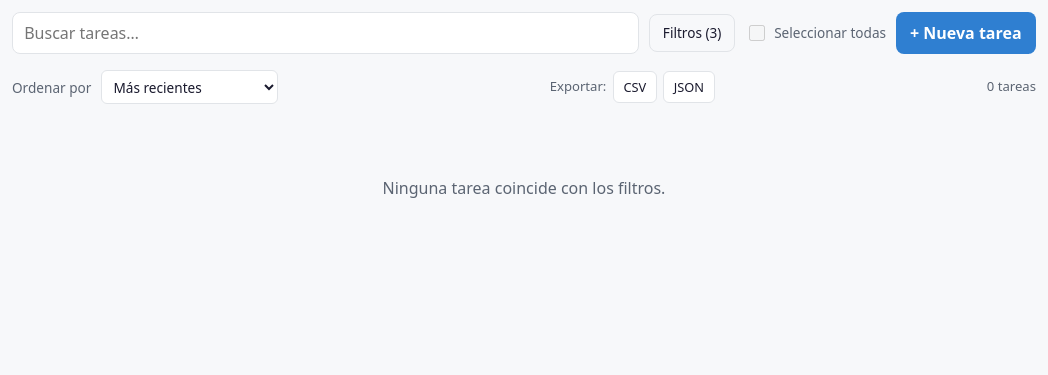
<TodoList /> › toggles the filter panel and shows the active count
The image size is (1048, 375).
Click the button "Filtros (3)" at (692, 33), box [649,14,735,52]
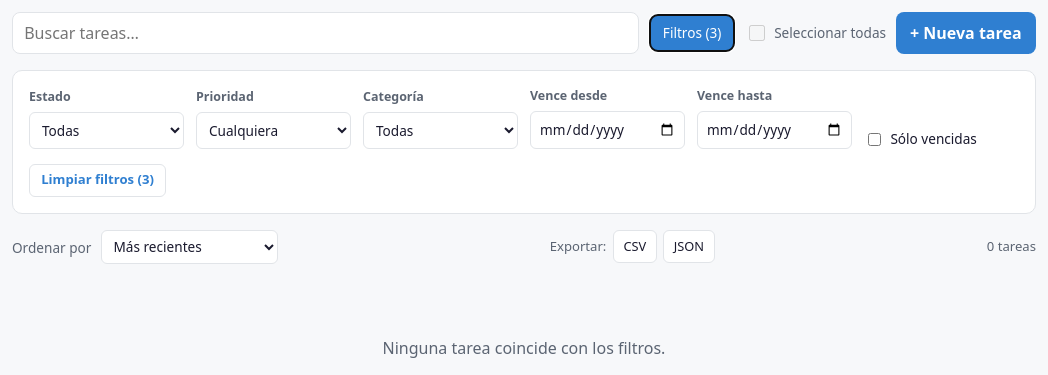
expect the element labelled "filtros" is shown: met, box [12,70,1036,214]
